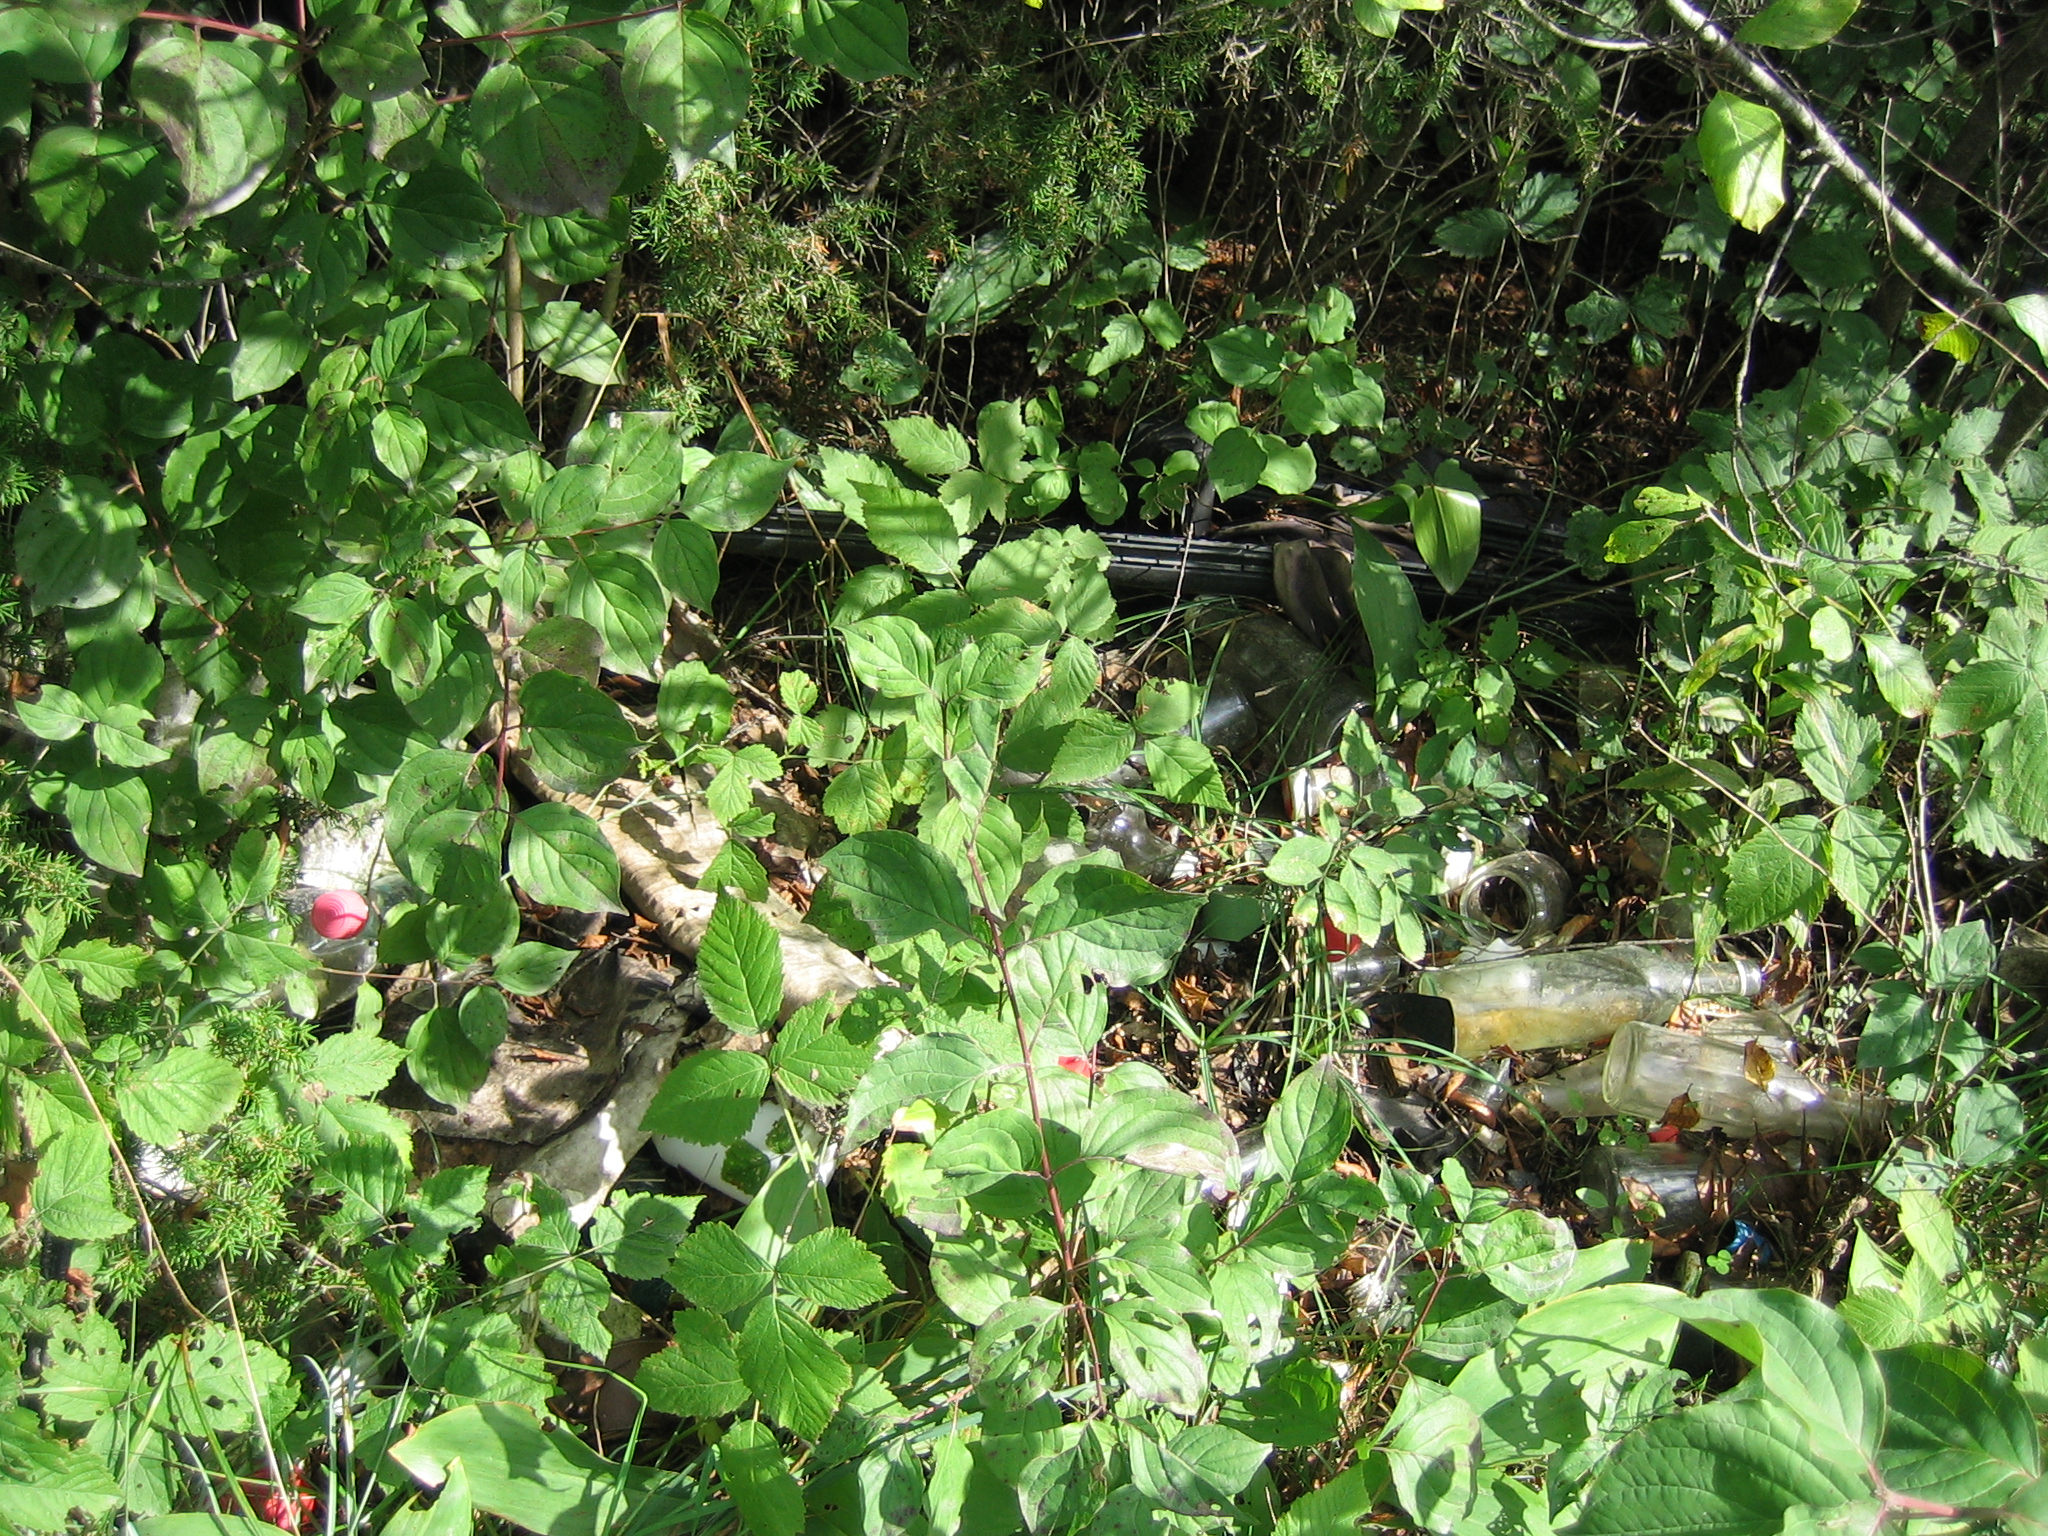trash: (1272, 834, 1884, 1291)
